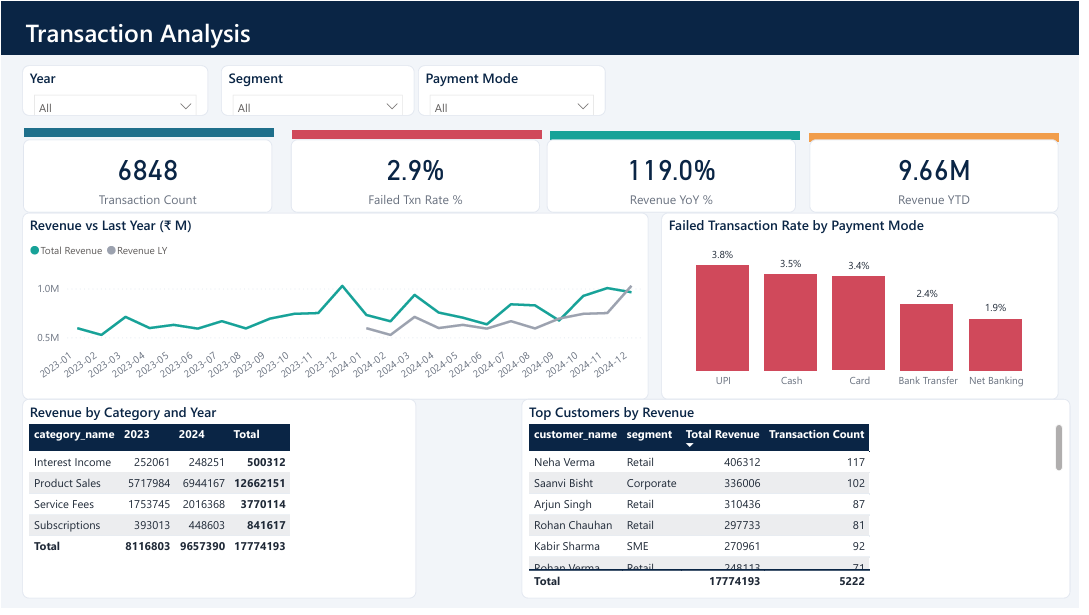

This screenshot's page, from the dashboard's own definition file:
{"tool":"powerbi","page":{"name":"Transaction Analysis","canvas":[1280,720],"ordinal":1},"visuals":[{"type":"textbox","box":[0,0,1280,64],"z":0},{"type":"textbox","box":[24,12,720,40],"z":1000},{"type":"textbox","box":[760,20,496,26],"z":2000},{"type":"slicer","title":"Year","fields":{"Values":["Date.year"]},"box":[24.6,64.3,219.2,56.7],"z":3000},{"type":"slicer","title":"Segment","fields":{"Values":["vw_transactions.segment"]},"box":[243.8,64.3,219.2,56.7],"z":4000},{"type":"slicer","title":"Payment Mode","fields":{"Values":["vw_transactions.payment_mode"]},"box":[463,64.3,221.1,56.7],"z":5000},{"type":"textbox","box":[24,134,296,5],"z":6000},{"type":"card","fields":{"Values":["_Measures.Transaction Count"]},"box":[24,139,296,87],"z":7000},{"type":"textbox","box":[336,134,296,5],"z":8000},{"type":"card","fields":{"Values":["_Measures.Failed Txn Rate %"]},"box":[336,139,296,87],"z":9000},{"type":"textbox","box":[648,134,296,5],"z":10000},{"type":"card","fields":{"Values":["_Measures.Revenue YoY %"]},"box":[648,139,296,87],"z":11000},{"type":"textbox","box":[960,134,296,5],"z":12000},{"type":"card","fields":{"Values":["_Measures.Revenue YTD"]},"box":[960,139,296,87],"z":13000},{"type":"lineChart","title":"Revenue vs Last Year (₹ M)","fields":{"Category":["Date.period"],"Y":["_Measures.Total Revenue","_Measures.Revenue LY"]},"box":[24,238,744,222],"z":14000},{"type":"clusteredColumnChart","title":"Failed Transaction Rate by Payment Mode","fields":{"Category":["vw_transactions.payment_mode"],"Y":["_Measures.Failed Txn Rate %"]},"box":[784,238,472,222],"z":15000},{"type":"pivotTable","title":"Revenue by Category and Year","fields":{"Columns":["Date.year"],"Rows":["vw_transactions.category_name"],"Values":["_Measures.Total Revenue"]},"box":[24,472,600,236],"z":16000},{"type":"tableEx","title":"Top Customers by Revenue","fields":{"Values":["vw_transactions.customer_name","vw_transactions.segment","_Measures.Total Revenue","_Measures.Transaction Count"]},"box":[640,472,616,236],"z":17000}]}

Visuals, with their boxes in screenshot pixels (x1, y1, x2, y2), scaled from the page's 1280x720 canvas onto the 1089x615 screenshot:
textbox: (x1=0, y1=0, x2=1088, y2=55)
textbox: (x1=20, y1=10, x2=633, y2=44)
textbox: (x1=647, y1=17, x2=1069, y2=39)
"Year" slicer: (x1=21, y1=55, x2=207, y2=103)
"Segment" slicer: (x1=207, y1=55, x2=394, y2=103)
"Payment Mode" slicer: (x1=394, y1=55, x2=582, y2=103)
textbox: (x1=20, y1=114, x2=272, y2=119)
card - _Measures.Transaction Count: (x1=20, y1=119, x2=272, y2=193)
textbox: (x1=286, y1=114, x2=538, y2=119)
card - _Measures.Failed Txn Rate %: (x1=286, y1=119, x2=538, y2=193)
textbox: (x1=551, y1=114, x2=803, y2=119)
card - _Measures.Revenue YoY %: (x1=551, y1=119, x2=803, y2=193)
textbox: (x1=817, y1=114, x2=1069, y2=119)
card - _Measures.Revenue YTD: (x1=817, y1=119, x2=1069, y2=193)
"Revenue vs Last Year (₹ M)" lineChart: (x1=20, y1=203, x2=653, y2=393)
"Failed Transaction Rate by Payment Mode" clusteredColumnChart: (x1=667, y1=203, x2=1069, y2=393)
"Revenue by Category and Year" pivotTable: (x1=20, y1=403, x2=531, y2=605)
"Top Customers by Revenue" tableEx: (x1=544, y1=403, x2=1069, y2=605)
